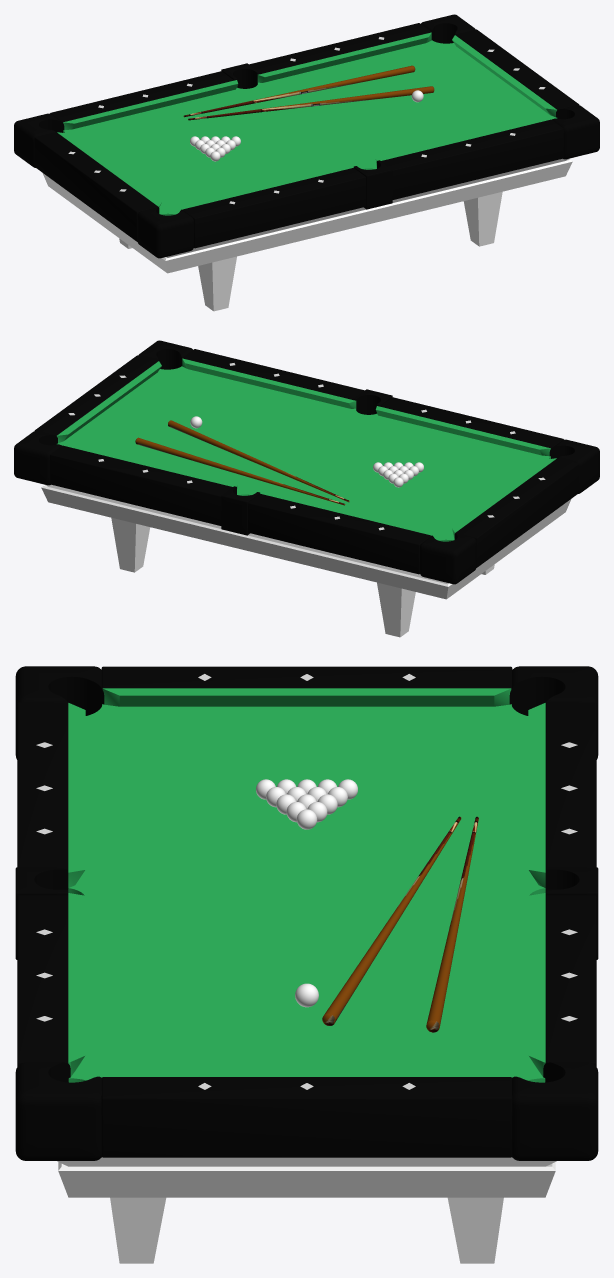
The model's file is uploads_files_2816943_Pool-table.FBX.
The picture shows the model from 3 angles, top to bottom: view 1: azimuth 30°, elevation 25°; view 2: azimuth 150°, elevation 25°; view 3: azimuth 270°, elevation 25°; orthographic projection. The views are drawn at different scales.
Parts seen in each view (by area): view 1: M-Plane, Outer Edges, Table Legs, Pockets, Inner Edges, Cue002, Cue001; view 2: M-Plane, Outer Edges, Table Legs, Pockets, Inner Edges, Cue001, Cue002; view 3: M-Plane, Outer Edges, Pockets, Table Legs, Inner Edges, Cue002, Cue001, Diamonds.
Boxes of the visible parts, bbox=[...] form: M-Plane: bbox=[63, 40, 557, 215]; Outer Edges: bbox=[34, 23, 579, 248]; Table Legs: bbox=[42, 158, 572, 311]; Pockets: bbox=[14, 14, 599, 258]; Inner Edges: bbox=[57, 32, 556, 209]; Cue002: bbox=[188, 86, 434, 120]; Cue001: bbox=[183, 65, 415, 117]; M-Plane: bbox=[56, 366, 550, 541]; Outer Edges: bbox=[34, 349, 579, 574]; Table Legs: bbox=[41, 484, 571, 637]; Pockets: bbox=[14, 340, 599, 584]; Inner Edges: bbox=[57, 358, 556, 539]; Cue001: bbox=[135, 437, 345, 505]; Cue002: bbox=[168, 420, 349, 502]; M-Plane: bbox=[68, 704, 545, 1082]; Outer Edges: bbox=[17, 666, 596, 1157]; Pockets: bbox=[15, 666, 598, 1160]; Table Legs: bbox=[57, 1157, 556, 1263]; Inner Edges: bbox=[68, 688, 545, 1076]; Cue002: bbox=[322, 816, 461, 1025]; Cue001: bbox=[426, 816, 478, 1032]; Diamonds: bbox=[36, 674, 577, 1089].
Size of the model in its own units: 301 by 81 by 171.
